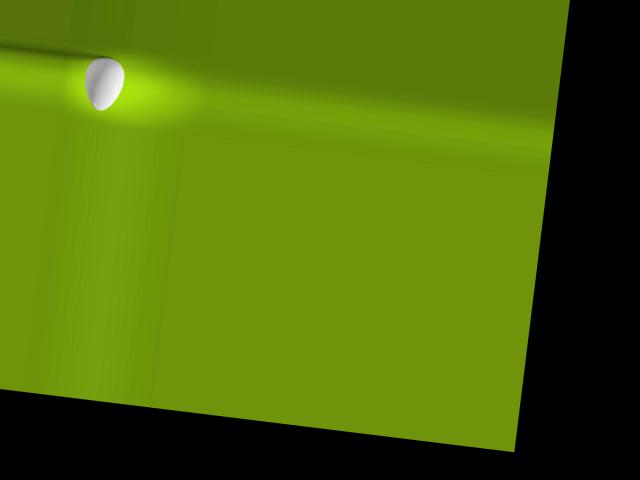egg: (81, 55, 126, 113)
